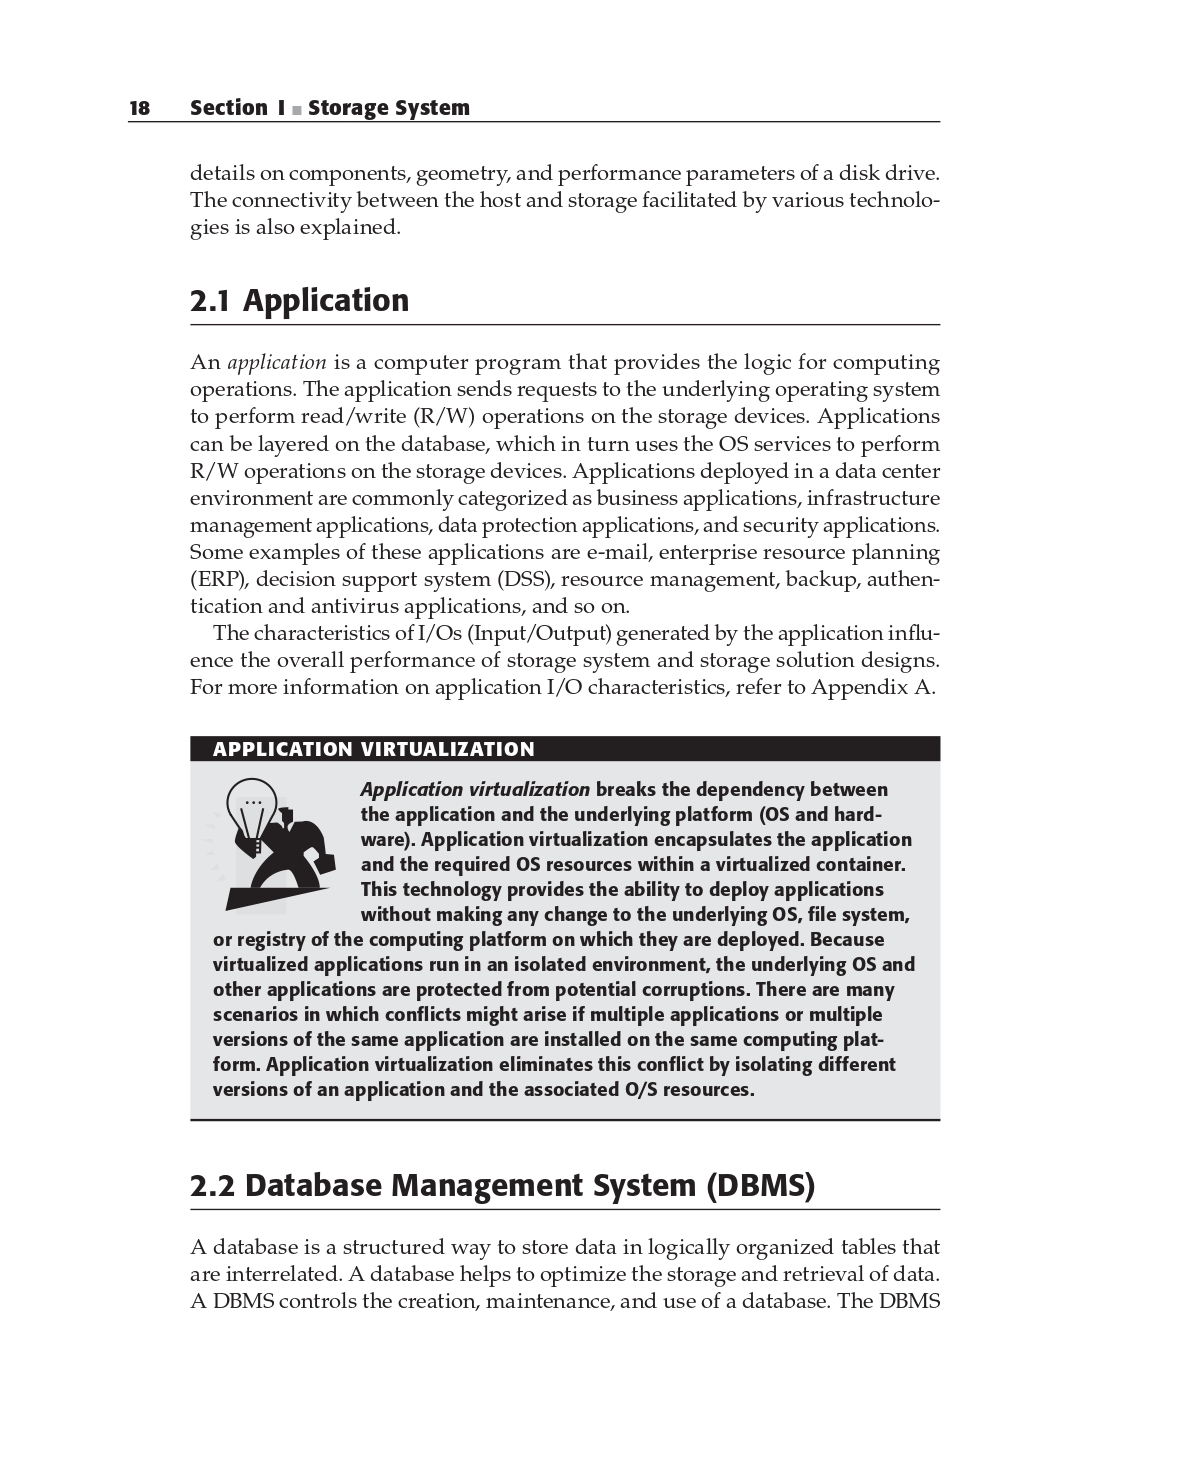Image: (216, 774, 333, 908)
Paragraph: (178, 348, 947, 616), (199, 932, 912, 1092), (359, 777, 926, 922), (184, 155, 941, 245), (184, 619, 958, 707), (184, 1235, 949, 1317), (190, 1165, 844, 1212), (112, 79, 482, 116), (195, 727, 552, 762), (172, 278, 412, 330)
